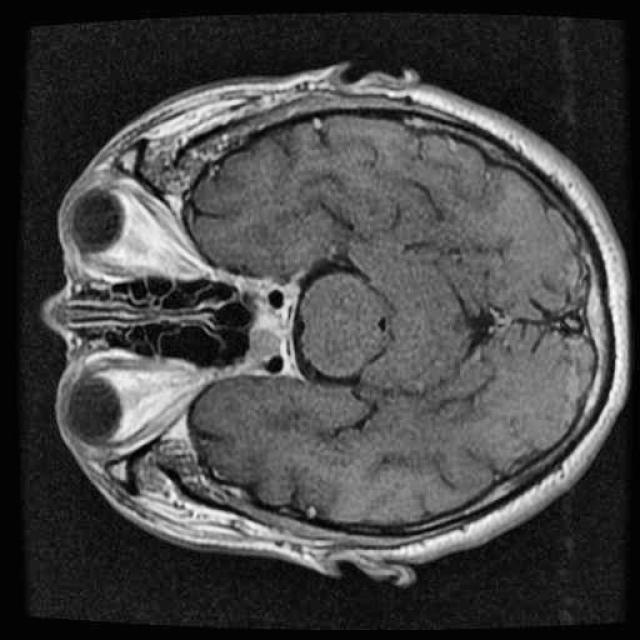Tumor: (245, 304, 296, 370)
